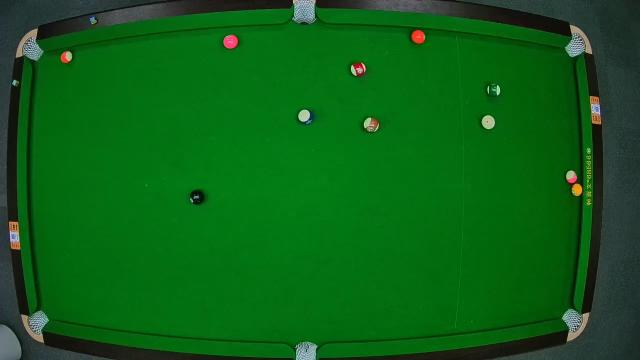bag1: (22, 38, 44, 62)
bag2: (293, 1, 315, 23)
bag3: (566, 34, 586, 57)
bag4: (29, 308, 49, 334)
bag5: (294, 342, 320, 360)
bag6: (562, 310, 582, 332)
ball0: (480, 114, 496, 131)
ball1: (570, 182, 582, 198)
ball10: (296, 110, 314, 126)
ball11: (348, 61, 368, 77)
ball12: (566, 168, 580, 184)
ball13: (60, 50, 74, 63)
ball14: (486, 82, 502, 98)
ball15: (363, 118, 379, 134)
ball4: (223, 34, 239, 50)
ball5: (410, 29, 426, 44)
ball8: (188, 190, 206, 205)
